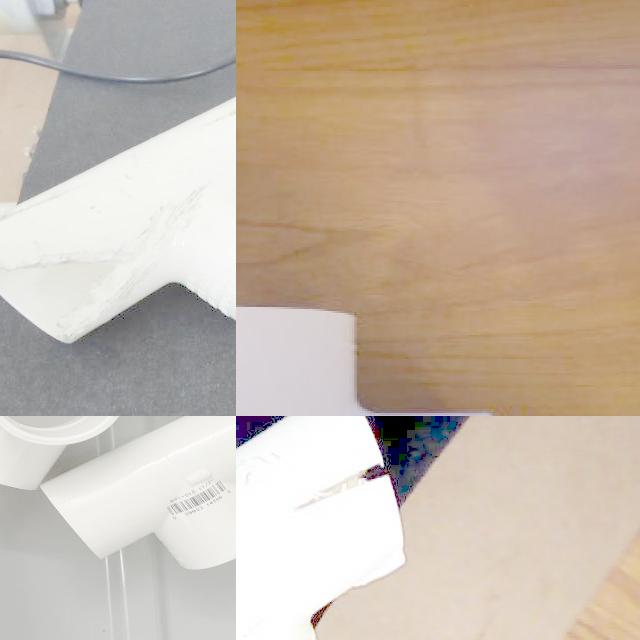Defective: (287, 460, 386, 532), (5, 255, 118, 308), (134, 186, 210, 264), (236, 457, 294, 515), (0, 188, 67, 226), (173, 106, 236, 132), (60, 316, 105, 343)
T Joint: (0, 97, 236, 346), (236, 416, 406, 640), (38, 416, 236, 572)
